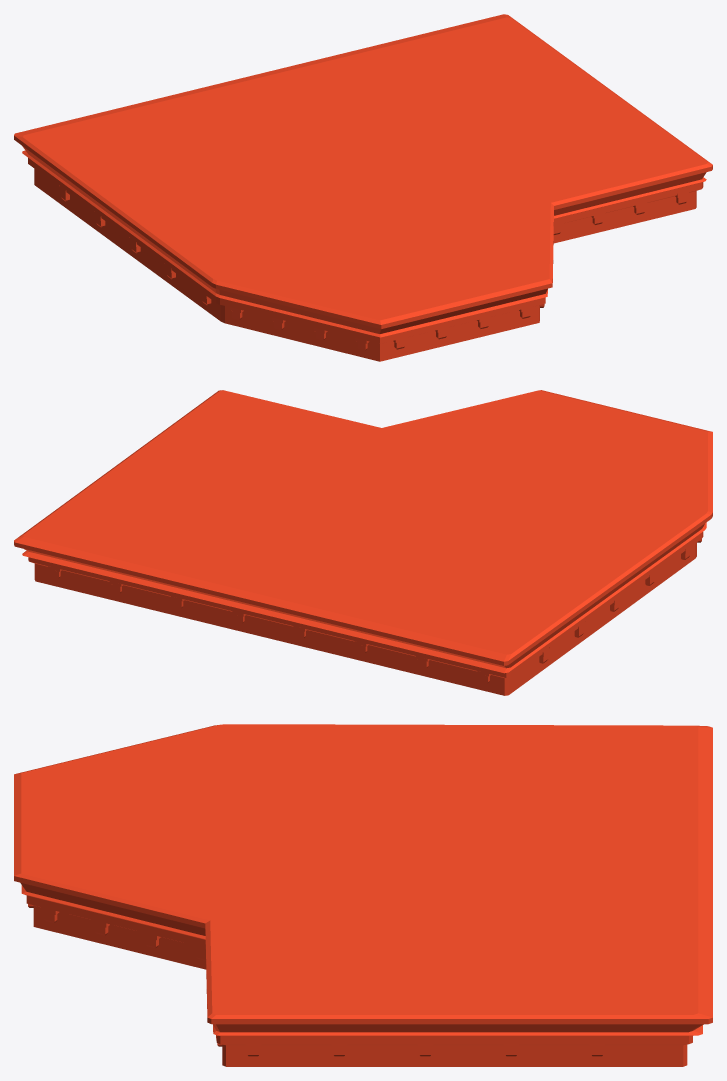
The model's file is SM_Bayhouse_Roof_B_City.fbx.
3 renders of one model, top to bottom at view 1: azimuth 30°, elevation 25°; view 2: azimuth 150°, elevation 25°; view 3: azimuth 270°, elevation 25°, orthographic. The views are drawn at different scales.
Parts seen in each view (by area): view 1: SM_Bayhouse_Roof_B_City; view 2: SM_Bayhouse_Roof_B_City; view 3: SM_Bayhouse_Roof_B_City.
Part boxes in pixels (x1,y1,x2,y2): SM_Bayhouse_Roof_B_City: (14, 14, 712, 361); SM_Bayhouse_Roof_B_City: (14, 390, 712, 695); SM_Bayhouse_Roof_B_City: (14, 724, 712, 1066).
Size of the model in its own units: 6.39 by 0.5688 by 6.42.
